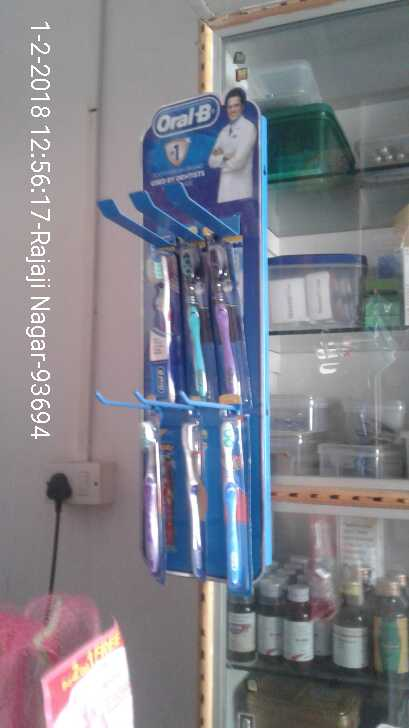oralb: (207, 213, 247, 400), (212, 416, 255, 586), (175, 227, 209, 392), (139, 249, 173, 400), (176, 432, 209, 573), (140, 415, 169, 566)
